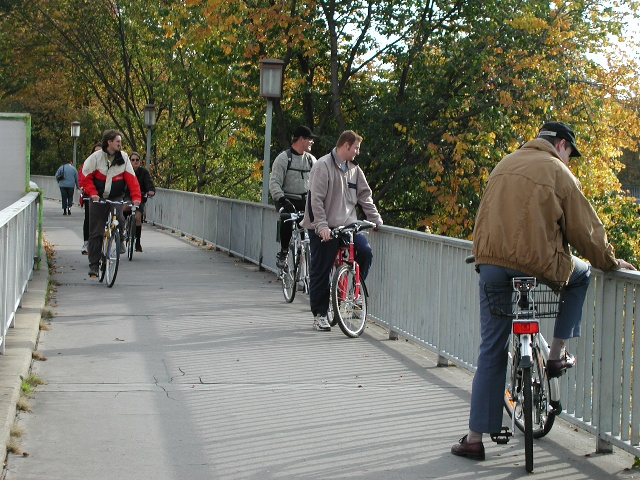person: (449, 118, 620, 460), (307, 131, 376, 330), (70, 125, 142, 276), (273, 126, 327, 289)
